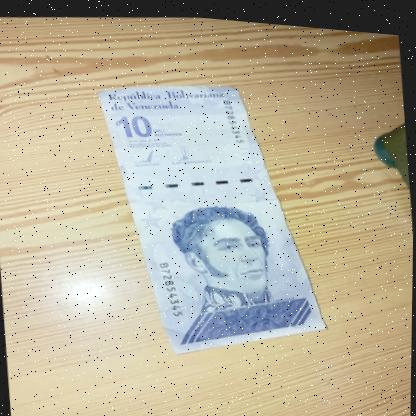vef_front: (95, 63, 333, 366)
